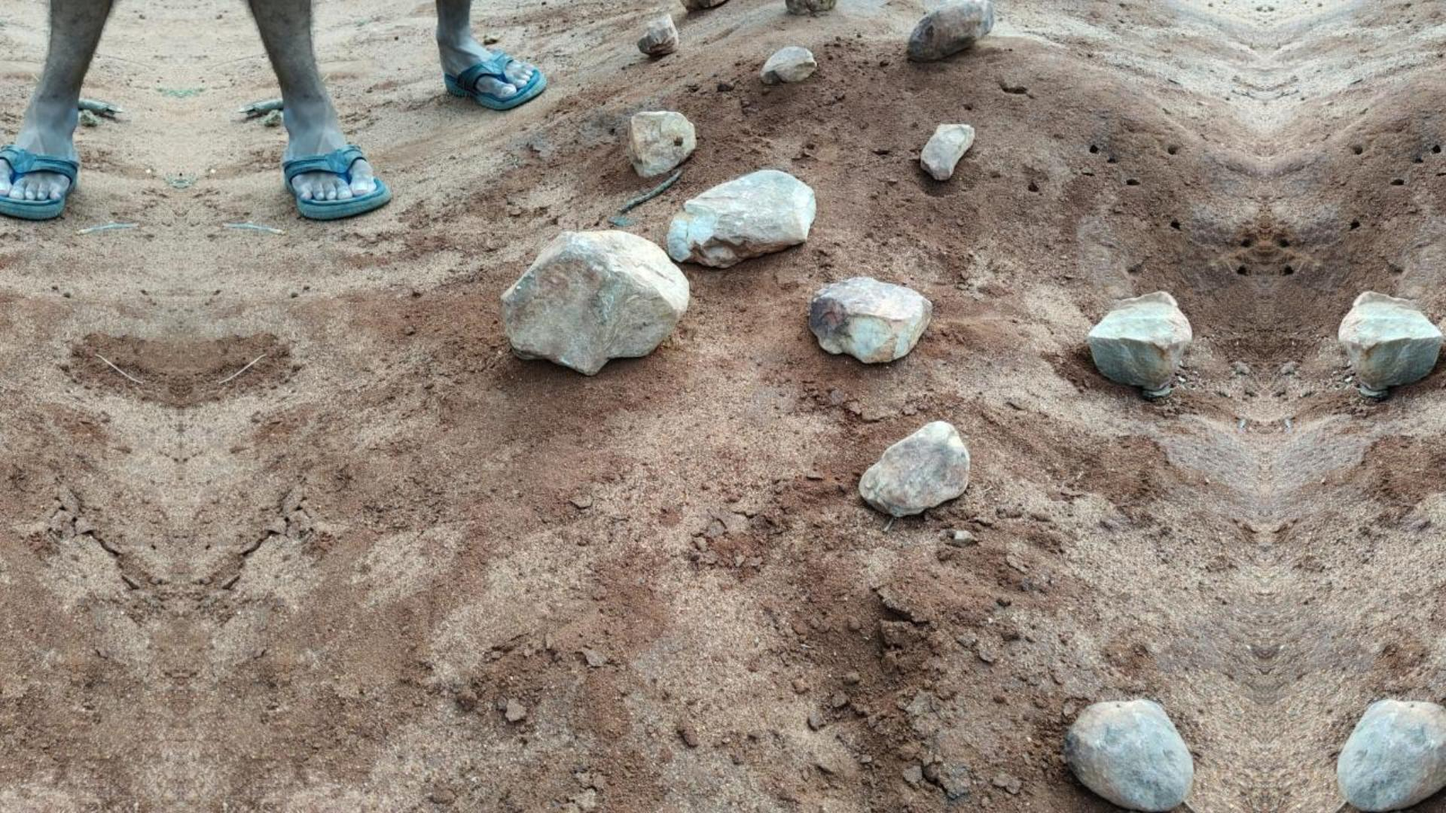rock: (503, 230, 688, 374), (1063, 699, 1192, 812), (667, 169, 816, 266), (1336, 699, 1445, 812), (1087, 291, 1191, 393), (809, 277, 932, 362), (859, 421, 969, 516), (1339, 291, 1441, 392), (907, 0, 993, 61), (627, 111, 695, 176), (920, 124, 974, 180), (759, 46, 816, 84), (637, 14, 678, 58), (785, 0, 836, 15)
